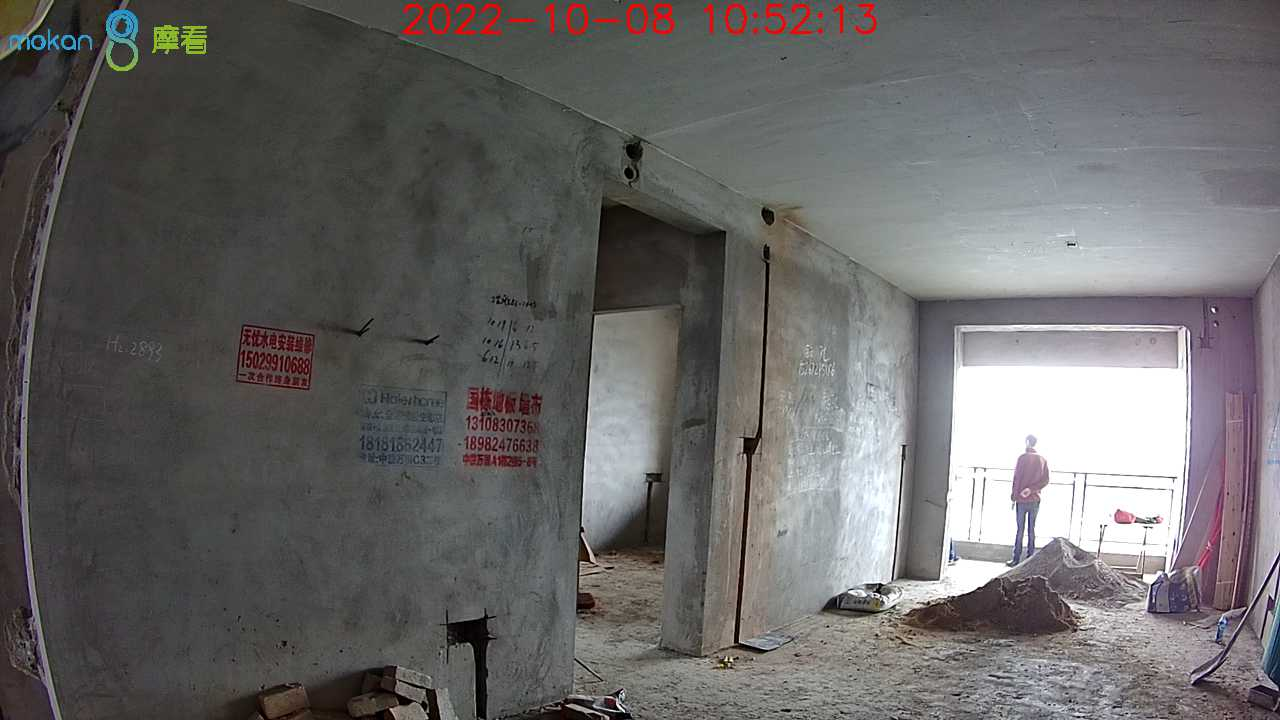people: (1012, 433, 1051, 566)
window: (951, 361, 1184, 552)
